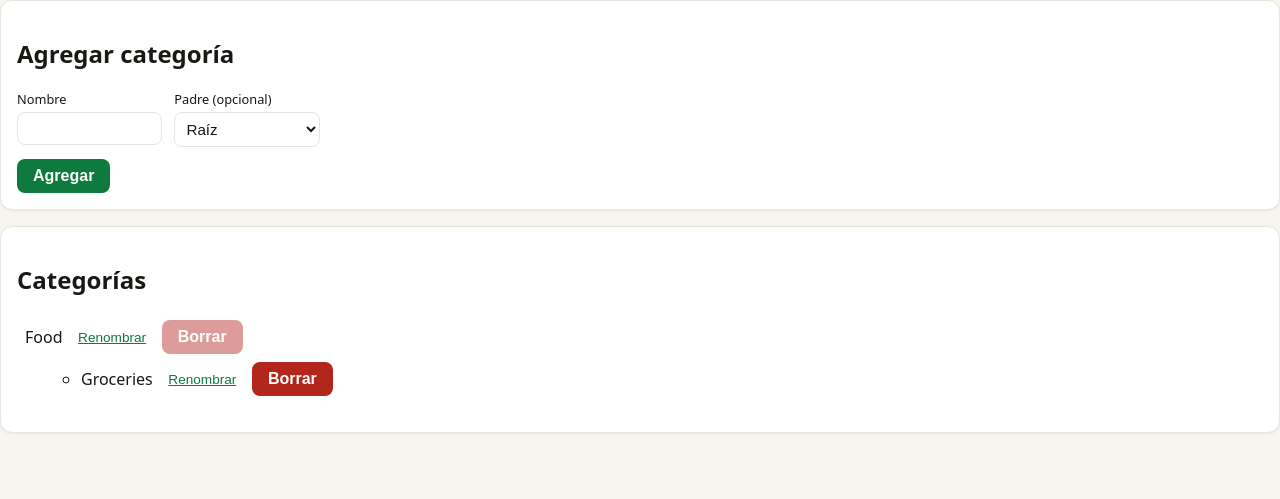
Scenario: CategoriesPage › shows the add-category error with role=alert (P3 #4)
Expected: the button with test id "delete-1" is shown, [162,320,243,354]
What coordinates should you click on to do the following:
click the button with test id "cat-add"
I would click on:
 (64, 176)
Its box is [17,159,110,193].
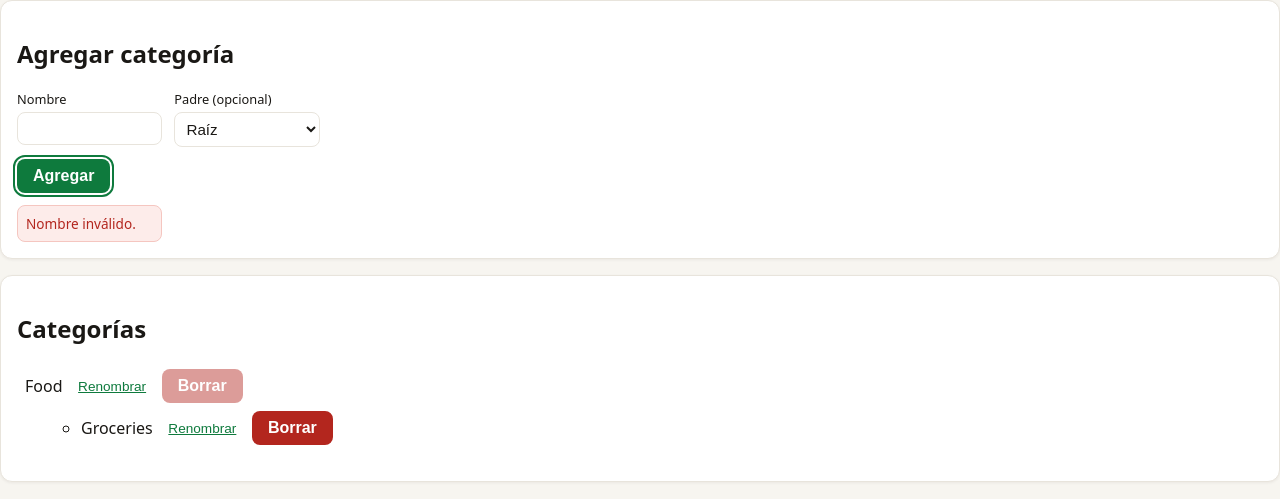
Expected: the message reads "Nombre inválido.", [26,214,136,233]
